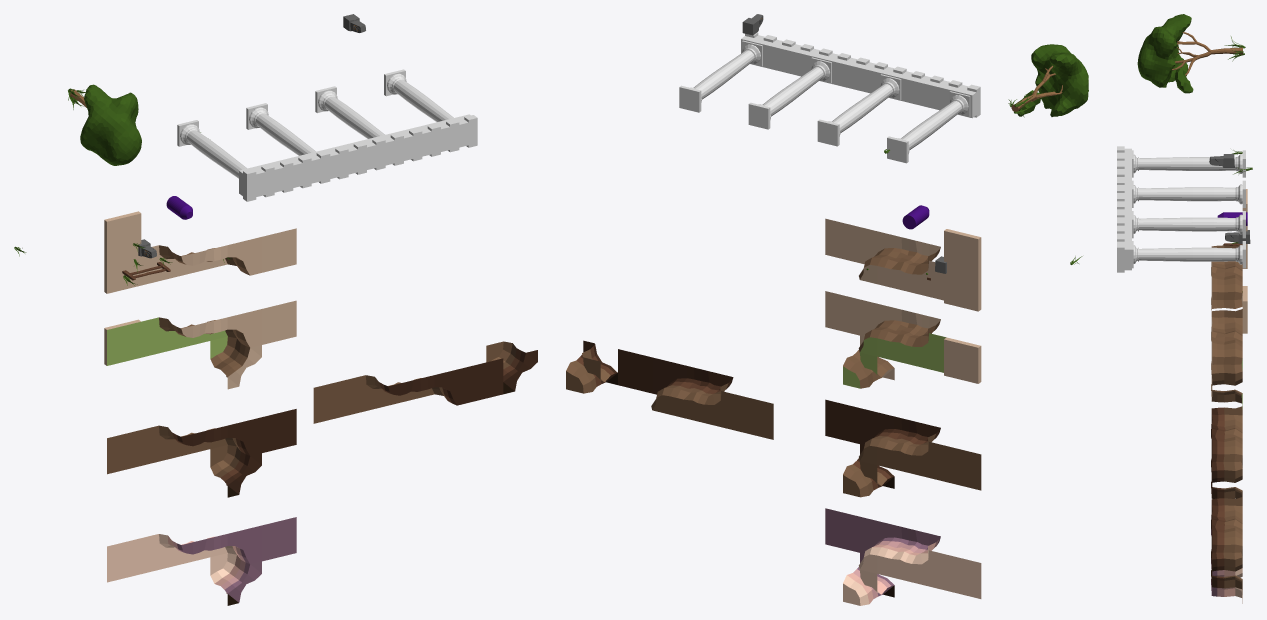
File: rocks.glb
3 renders of one model, left to right at view 1: azimuth 30°, elevation 25°; view 2: azimuth 150°, elevation 25°; view 3: azimuth 270°, elevation 25°, orthographic. The views are drawn at different scales.
Parts seen in each view (by area): view 1: Full.005, Full.007, Terrain, Plane.005, tree-leaves, Empty.002, terrain-3, Column, terrain-1, Plane.003, Plane.002, Plane.004 (+10 smaller); view 2: Full.005, Terrain, Full.007, Plane.006, tree-leaves, Wall, terrain-2, Plane.002, Plane.004, Plane.003, Column, terrain-3 (+10 smaller); view 3: Full.005, Terrain, tree-leaves, Plane.003, Plane.002, Plane.004, Column, Plane.005, Plane.006, Concave, terrain-4, terrain-3 (+7 smaller).
Part boxes in pixels (bbox=[...]): Full.005: bbox=[104, 300, 296, 389]; Full.007: bbox=[107, 517, 296, 605]; Terrain: bbox=[107, 409, 296, 497]; Plane.005: bbox=[243, 115, 477, 201]; tree-leaves: bbox=[80, 84, 141, 165]; Empty.002: bbox=[104, 211, 141, 257]; terrain-3: bbox=[486, 341, 537, 394]; Column: bbox=[177, 120, 246, 178]; terrain-1: bbox=[348, 375, 399, 415]; Plane.003: bbox=[315, 86, 384, 138]; Plane.002: bbox=[246, 103, 315, 155]; Plane.004: bbox=[384, 69, 453, 121]; Full.005: bbox=[825, 291, 981, 388]; Terrain: bbox=[825, 399, 981, 497]; Full.007: bbox=[825, 508, 981, 605]; Plane.006: bbox=[741, 36, 976, 118]; tree-leaves: bbox=[1017, 44, 1088, 116]; Wall: bbox=[877, 235, 929, 292]; terrain-2: bbox=[670, 366, 721, 422]; Plane.002: bbox=[817, 74, 901, 146]; Plane.004: bbox=[679, 40, 762, 112]; Plane.003: bbox=[748, 57, 831, 129]; Column: bbox=[887, 91, 970, 163]; terrain-3: bbox=[566, 340, 617, 393]; Full.005: bbox=[1211, 286, 1247, 409]; Terrain: bbox=[1211, 406, 1242, 498]; tree-leaves: bbox=[1137, 14, 1193, 93]; Plane.003: bbox=[1132, 211, 1245, 238]; Plane.002: bbox=[1132, 180, 1245, 207]; Plane.004: bbox=[1132, 241, 1245, 268]; Column: bbox=[1132, 150, 1245, 177]; Plane.005: bbox=[1117, 146, 1124, 272]; Plane.006: bbox=[1124, 148, 1131, 270]; Concave: bbox=[1211, 268, 1242, 311]; terrain-4: bbox=[1211, 521, 1242, 562]; terrain-3: bbox=[1211, 552, 1242, 594].
Size of the model in its own units: 29.53 by 31.43 by 7.59.
1 material, 1 textured.
